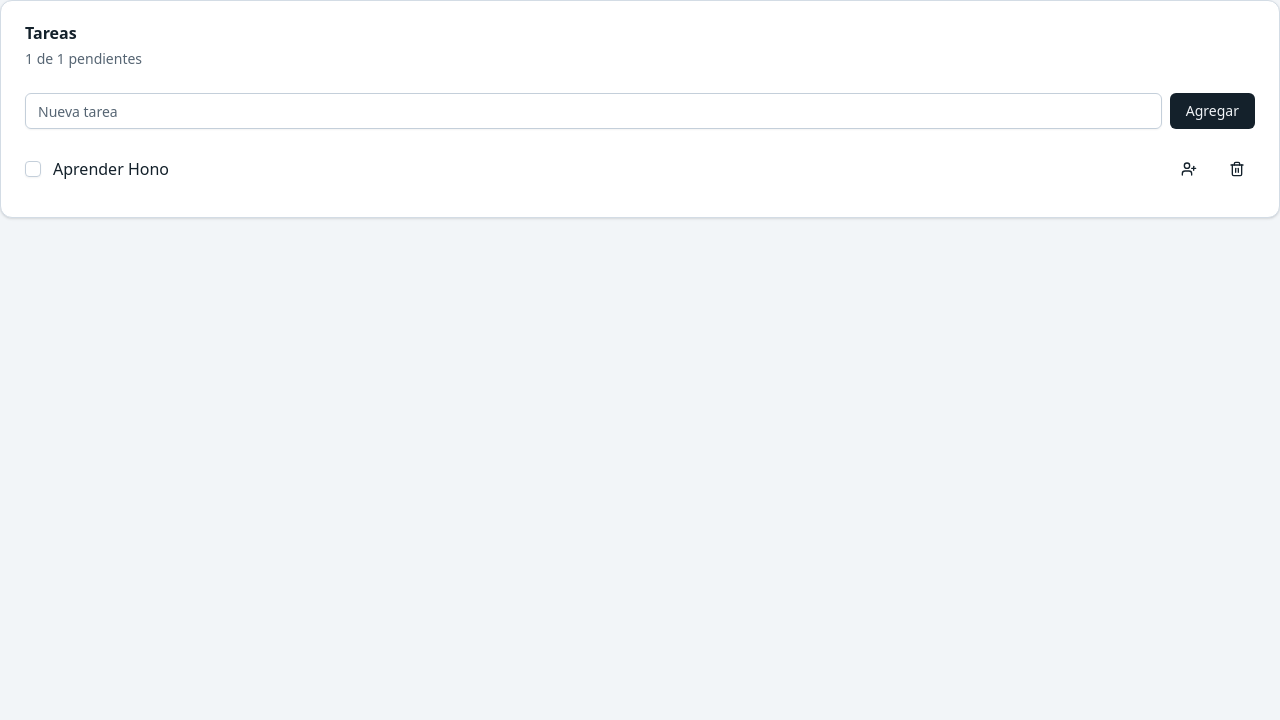
Test: TasksApp › usuarios asignados › filtra los usuarios por nombre o correo
Click the button named "Asignar usuarios a Aprender Hono" at (1189, 169), box [1171, 151, 1207, 187]
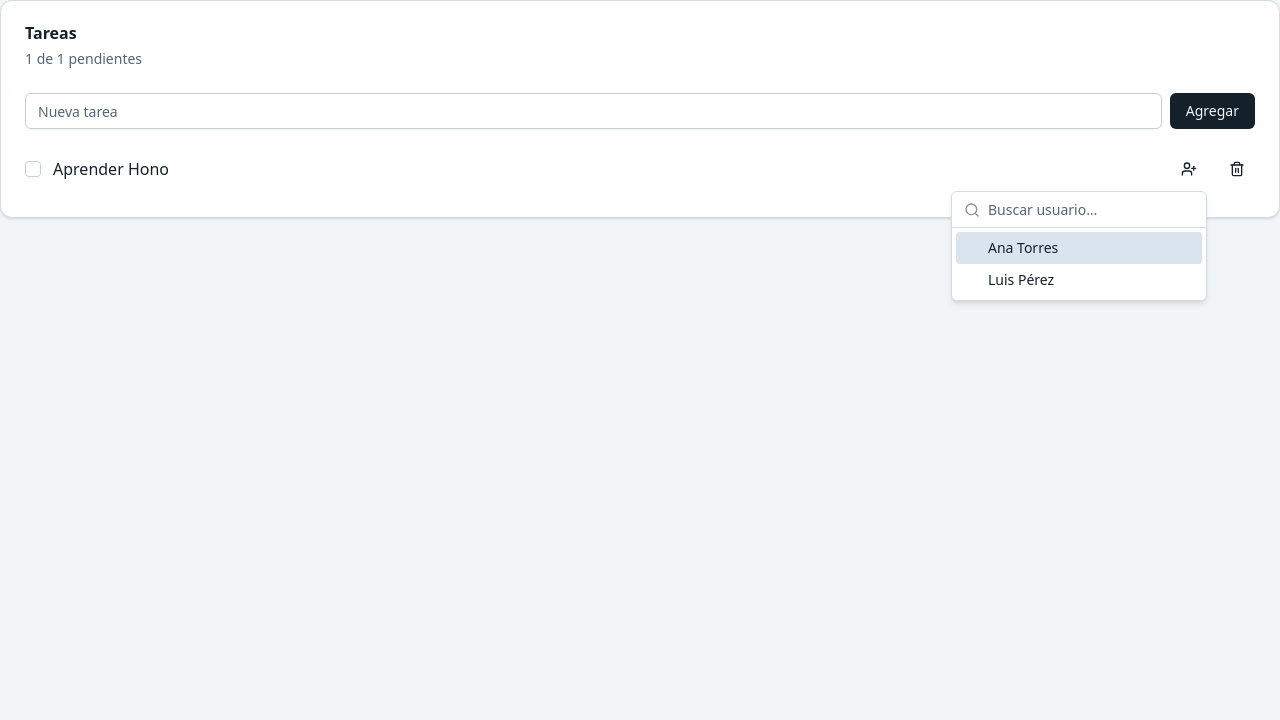
expect the option "Ana Torres" is shown: met, box [956, 232, 1202, 264]
Type "luis@" into the dropdown labelled "Buscar usuario" at (1091, 210), box [988, 190, 1194, 230]
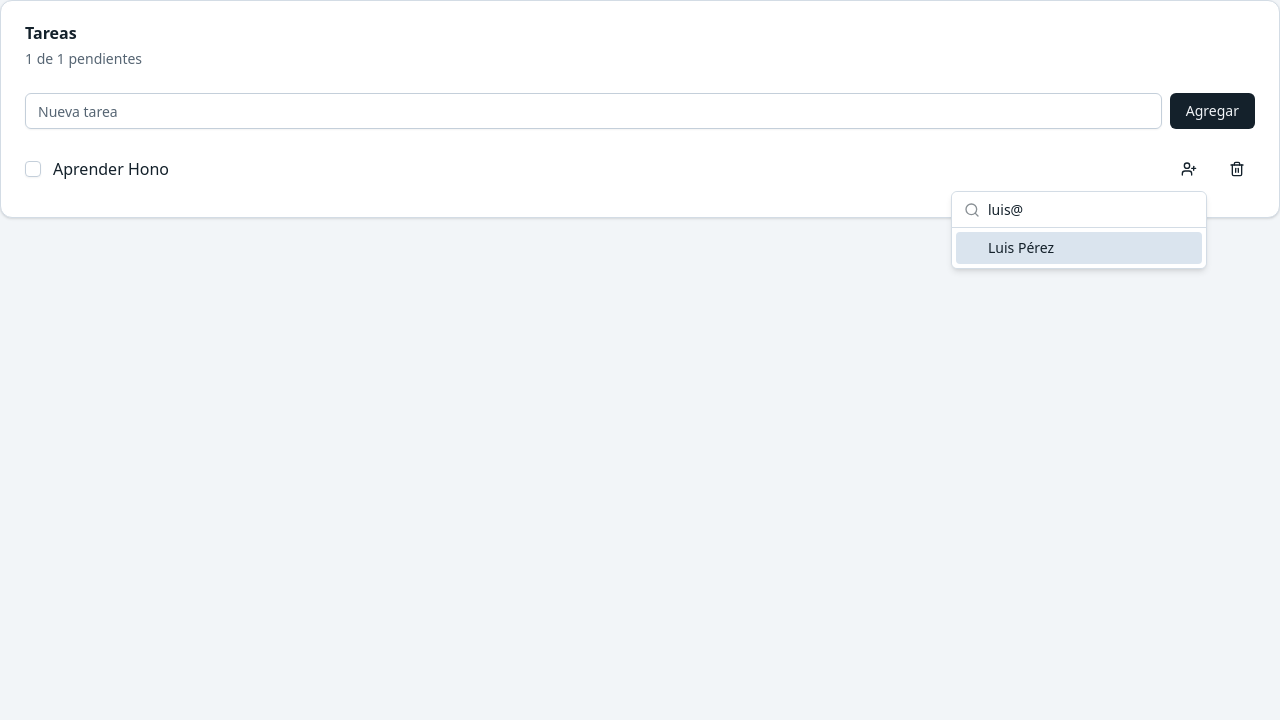
expect the option "Luis Pérez" is shown: met, box [956, 232, 1202, 264]
expect the option "Ana Torres" is gone: met
